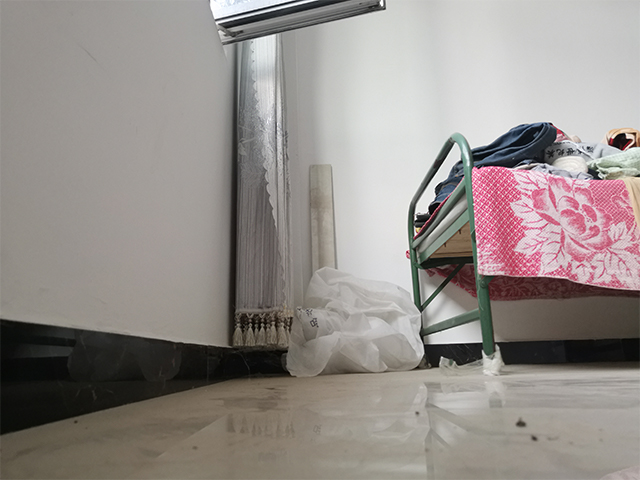bed: (406, 131, 640, 379)
curtain: (227, 31, 298, 357)
